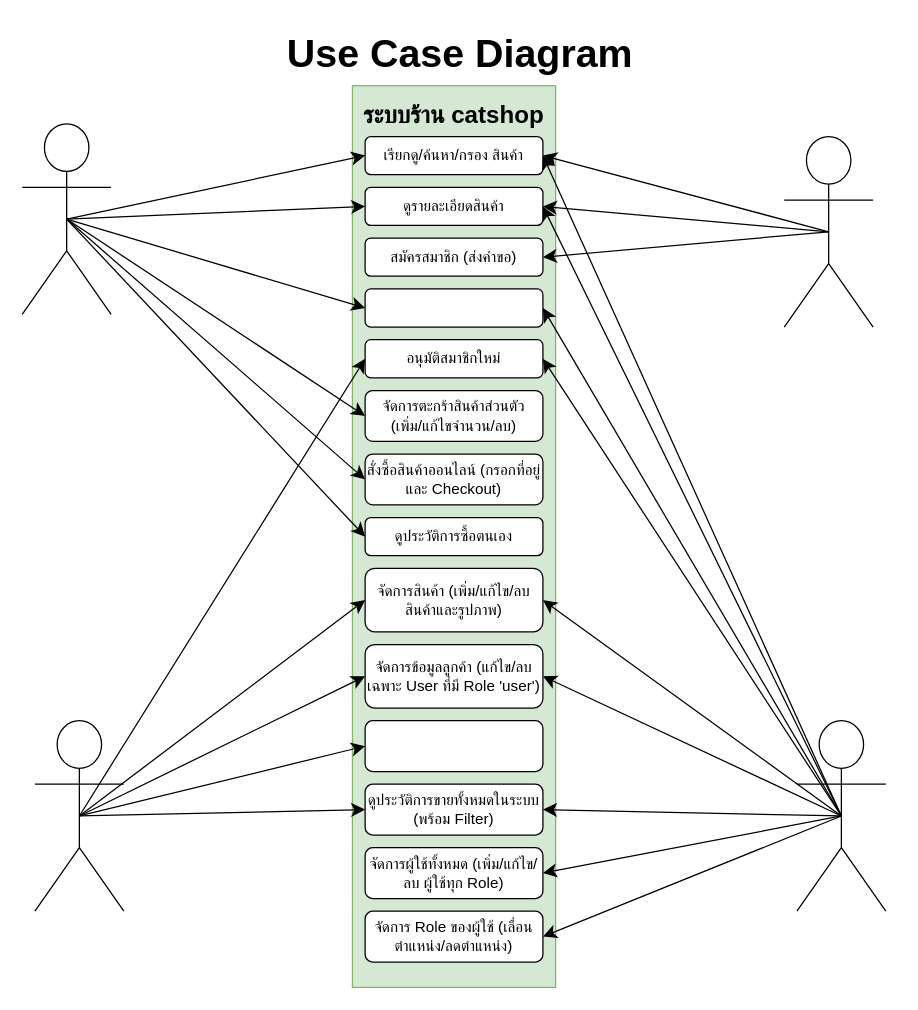
Image size: 918x1010. Some labels were removed from this diagram. Here are the shapes that lost their labels. From the top down, the centre of each, then its label:
At point (66, 218): "User ผู้ใช้งาน".
At point (828, 231): "Guest ผู้เยี่ยมชม".
At point (453, 307): "เข้าสู่ระบบ (Login) ออกจากระบบ (Logout)".
At point (453, 745): "ขายสินค้าหน้าร้าน (On-site Checkout)".
At point (79, 815): "Seller ผู้ขาย".
At point (841, 815): "Admin ผู้ดูแลระบบ".
